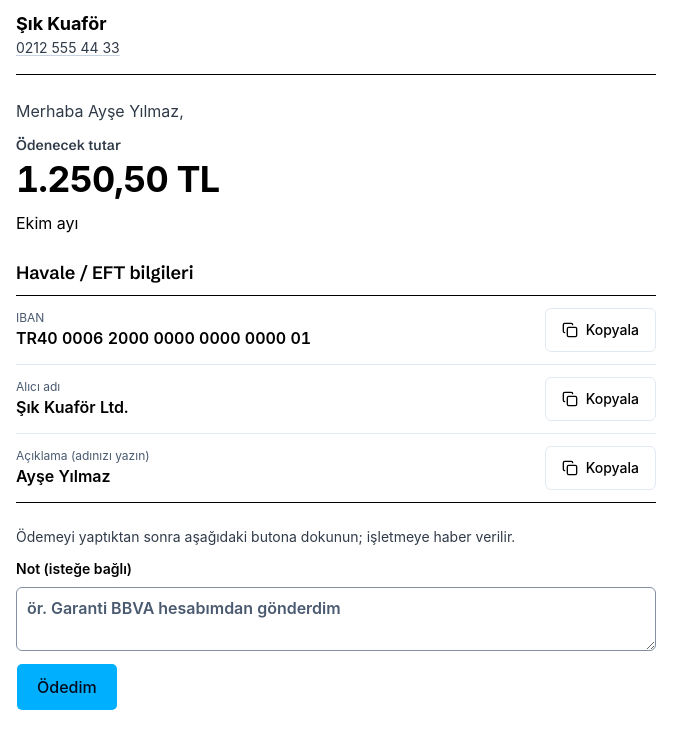
Test: /odeme/[token] › Ödedim'e basınca not gönderilir ve teşekkür mesajı çıkar
This screenshot has width=673, height=730.
Type "Garanti'den" into the text box labelled "Not (isteğe bağlı)" at (336, 619), box [16, 587, 656, 651]
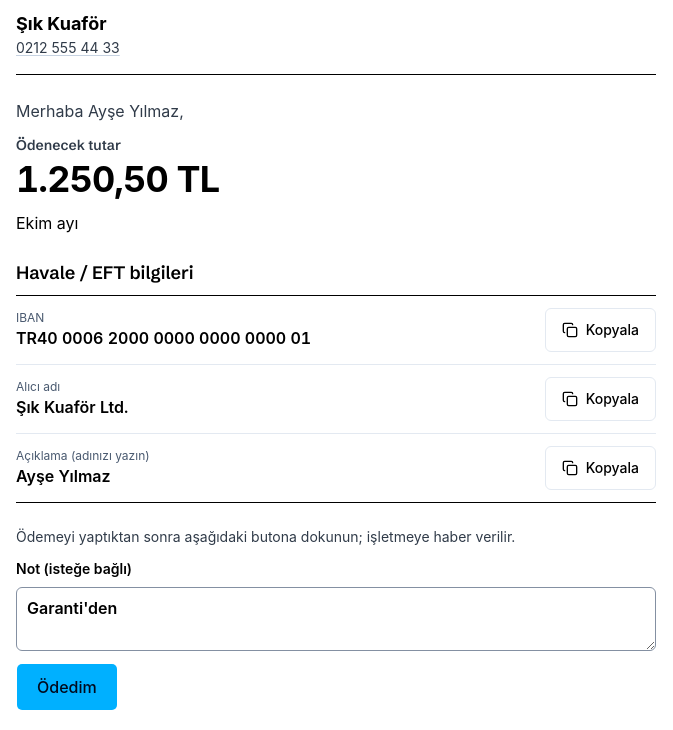
Click the button "Ödedim" at (67, 687), box [16, 663, 118, 711]
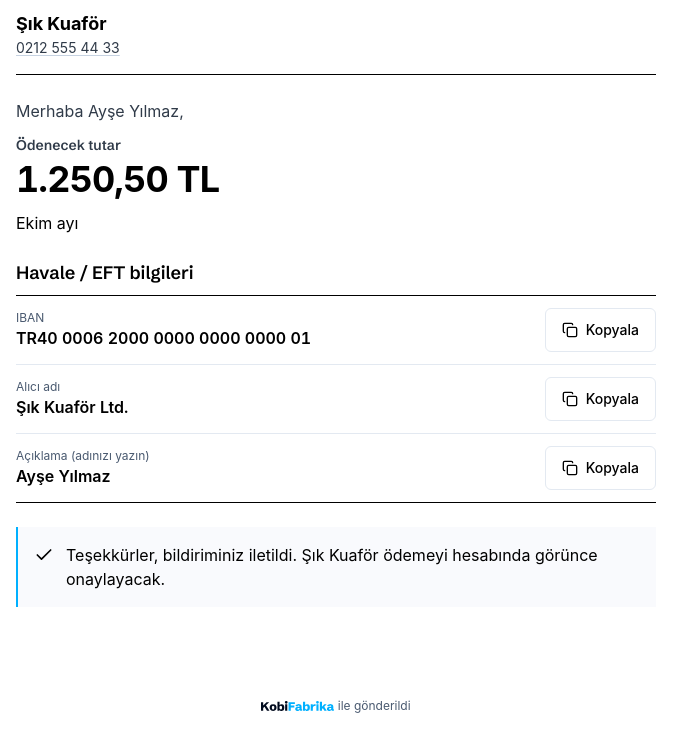
expect the text "bildiriminiz iletildi" is shown: met, box [66, 545, 302, 565]
expect the button "Ödedim" is gone: met
